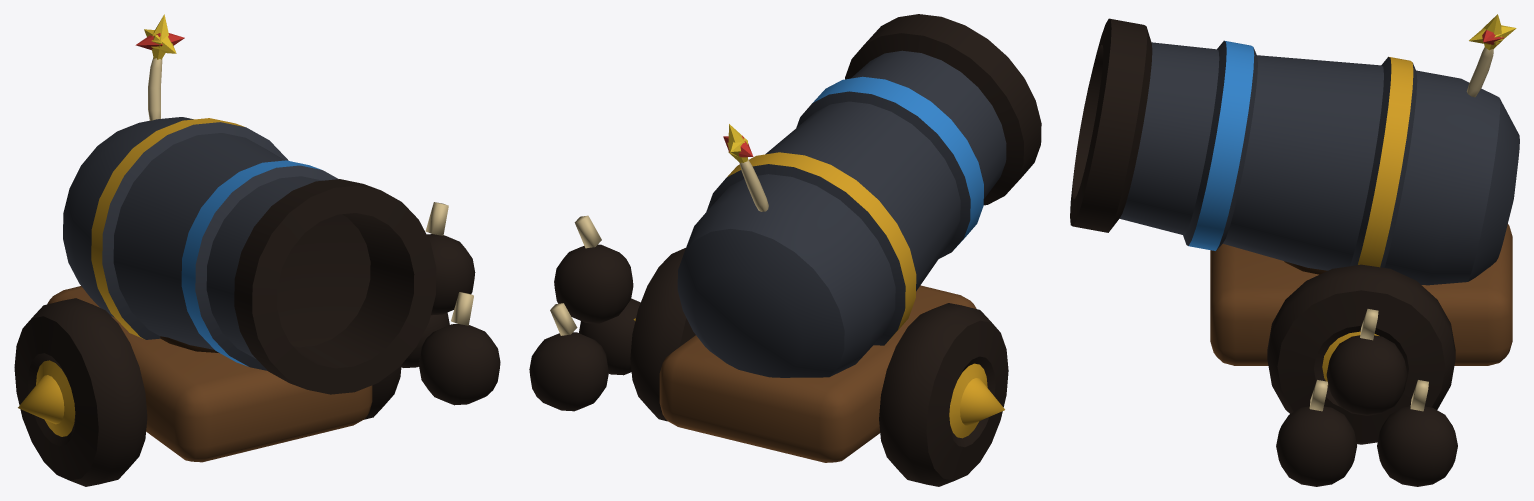
3 views of the same model, side by side, from view 1: azimuth 30°, elevation 25°; view 2: azimuth 150°, elevation 25°; view 3: azimuth 270°, elevation 25° (orthographic). The views are drawn at different scales.
Visible parts, largest first — view 1: bomba_1_torreta, bomba_0_base; view 2: bomba_1_torreta, bomba_0_base; view 3: bomba_1_torreta, bomba_0_base.
Part boxes in pixels (x1,y1,x2,y2): bomba_1_torreta: (63, 14, 436, 394); bomba_0_base: (14, 202, 500, 486); bomba_1_torreta: (677, 14, 1041, 377); bomba_0_base: (529, 215, 1008, 486); bomba_1_torreta: (1070, 14, 1519, 285); bomba_0_base: (1210, 224, 1512, 486).
Bounding box in the file's own units: 0.9344 × 0.74 × 0.803.
